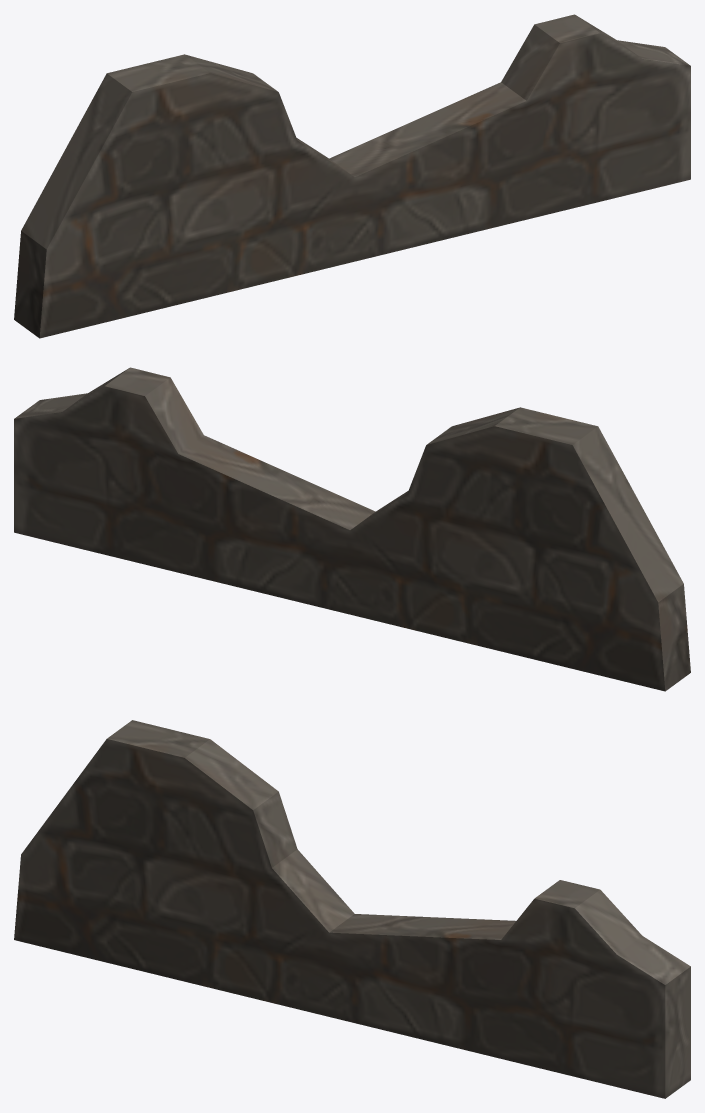
File: ruin_wall.FBX
The picture shows the model from 3 angles, top to bottom: view 1: azimuth 30°, elevation 25°; view 2: azimuth 150°, elevation 25°; view 3: azimuth 330°, elevation 25°; orthographic projection.
Parts seen in each view (by area): view 1: Object019; view 2: Object019; view 3: Object019.
Boxes of the visible parts, x1=… form: Object019: x1=14, y1=14, x2=690, y2=338; Object019: x1=14, y1=367, x2=690, y2=691; Object019: x1=14, y1=720, x2=690, y2=1098.
Size of the model in its own units: 9.89 by 3.25 by 0.6747.
